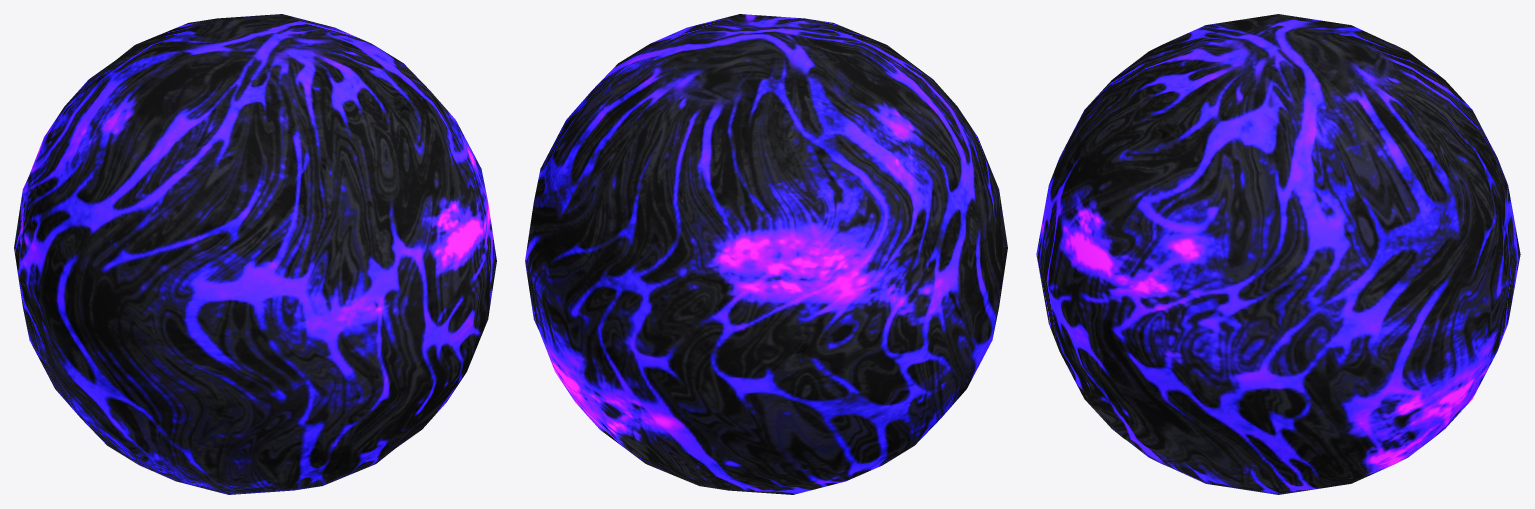
Rendered from magic_orb.glb.
The picture shows the model from 3 angles, left to right: view 1: azimuth 30°, elevation 25°; view 2: azimuth 150°, elevation 25°; view 3: azimuth 270°, elevation 25°; orthographic projection.
Parts seen in each view (by area): view 1: Orb; view 2: Orb; view 3: Orb.
Part boxes in pixels (<box>): Orb: <box>14,14,496,494</box>; Orb: <box>525,14,1007,494</box>; Orb: <box>1036,14,1520,494</box>.
Bounding box in the file's own units: 0.2 × 0.2 × 0.2.
1 material, 1 textured.
